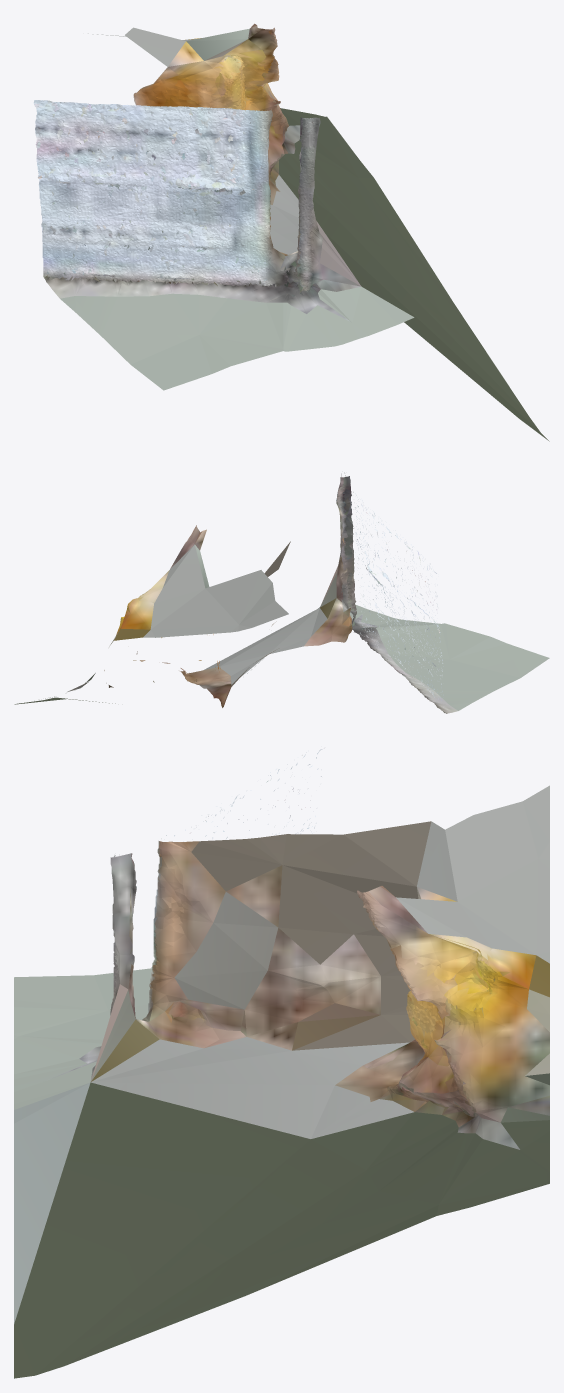
3 views of the same model, one above another, from view 1: azimuth 30°, elevation 25°; view 2: azimuth 150°, elevation 25°; view 3: azimuth 270°, elevation 25° (orthographic). The views are drawn at different scales.
Size of the model in its own units: 0.983 by 0.8291 by 0.983.
1 material, 1 textured.
